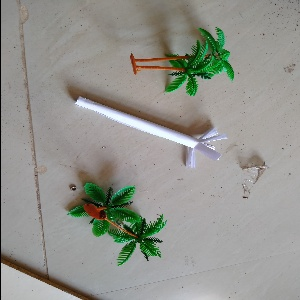plant: (67, 181, 166, 271), (126, 26, 236, 101)
weed: (70, 87, 223, 169)
